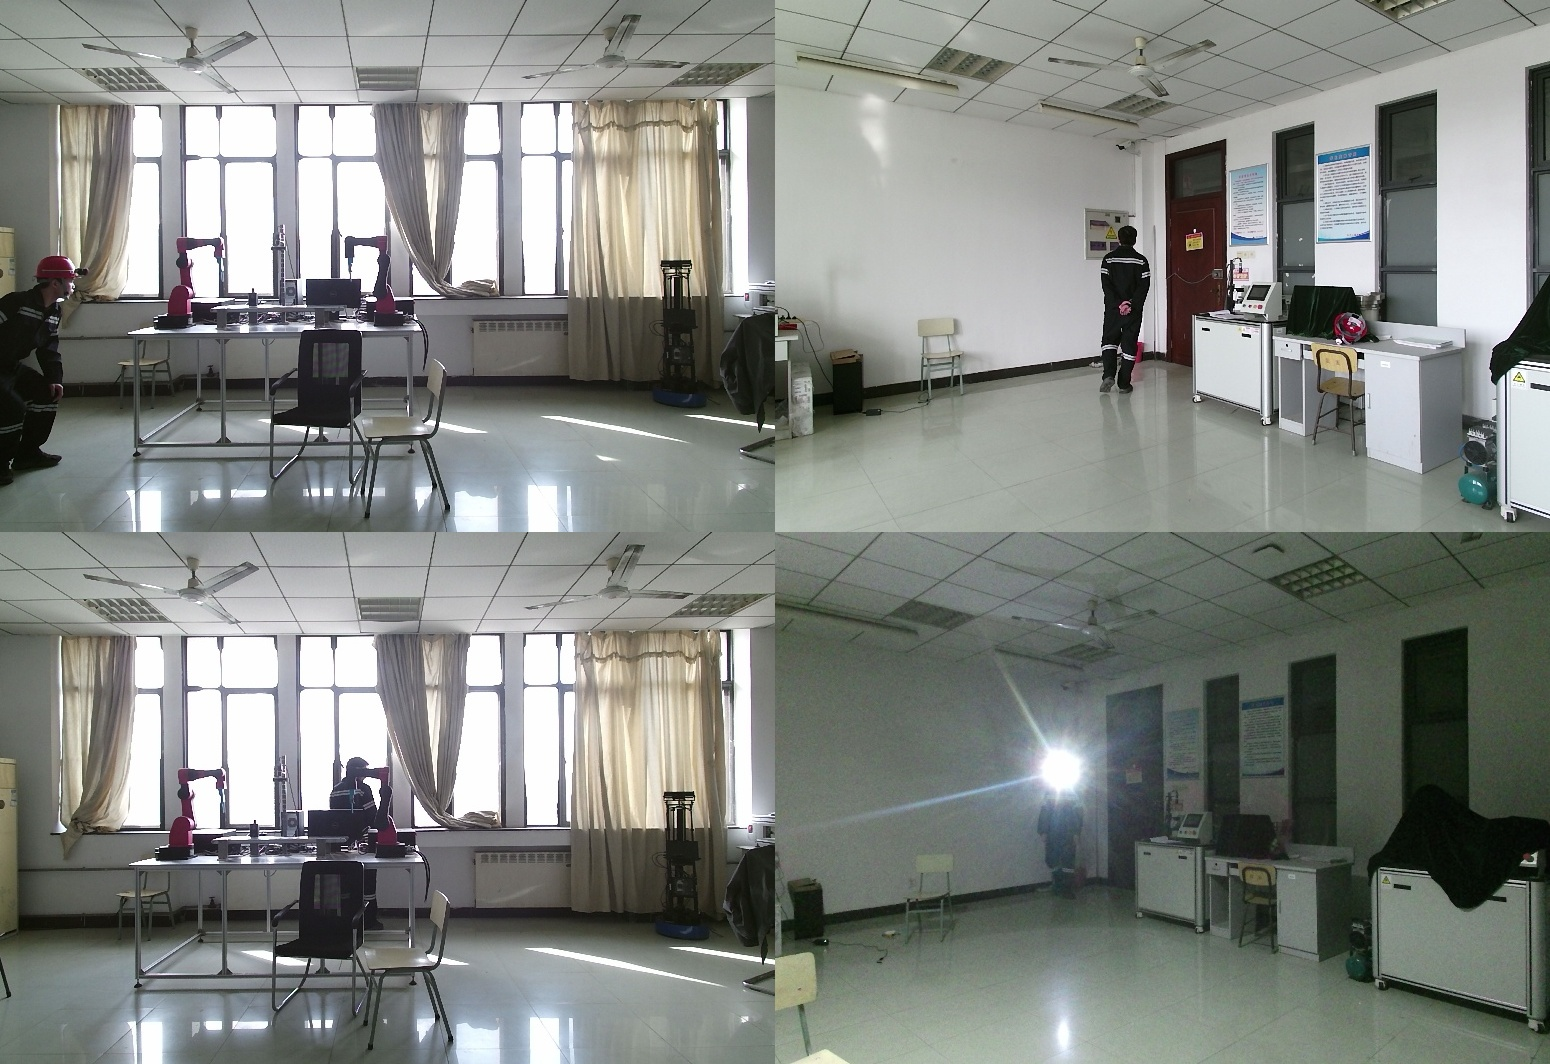person: (2, 257, 83, 483), (332, 758, 392, 935), (1093, 226, 1154, 401), (1023, 767, 1076, 905)
